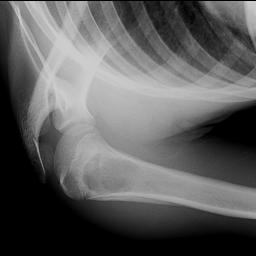cancer: (67, 161, 139, 197)
